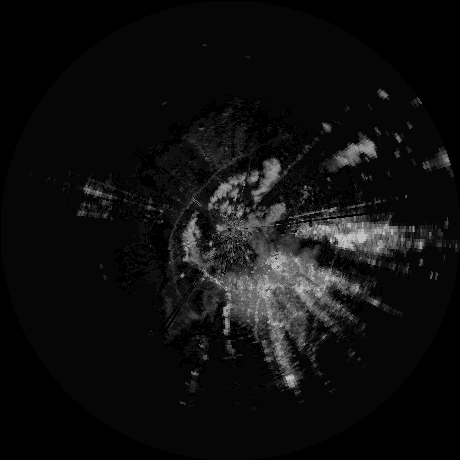frontgust: (169, 152, 243, 273)
